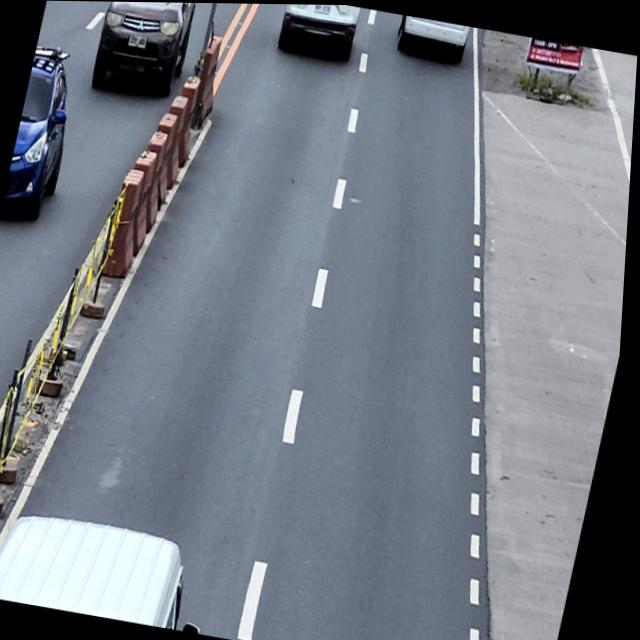Car: (0, 501, 224, 632), (3, 41, 87, 222), (87, 1, 201, 102), (275, 3, 361, 61), (393, 14, 471, 61)
License-Plate: (127, 32, 150, 50), (314, 4, 332, 14)
